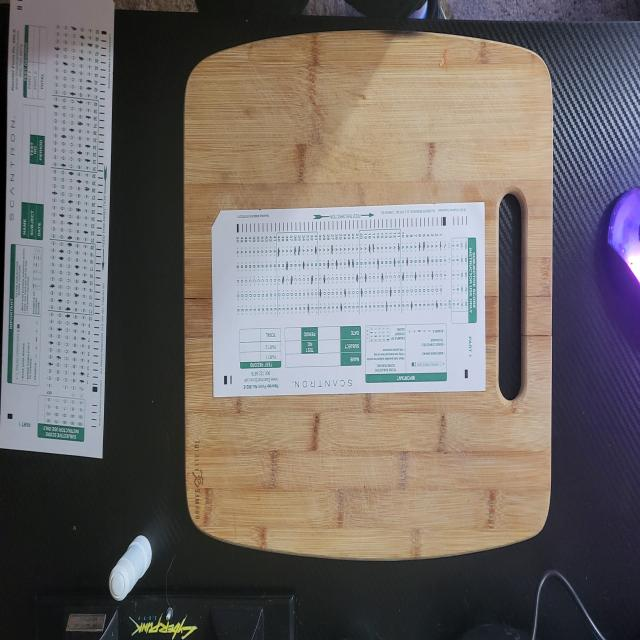scantron: (211, 202, 486, 398)
